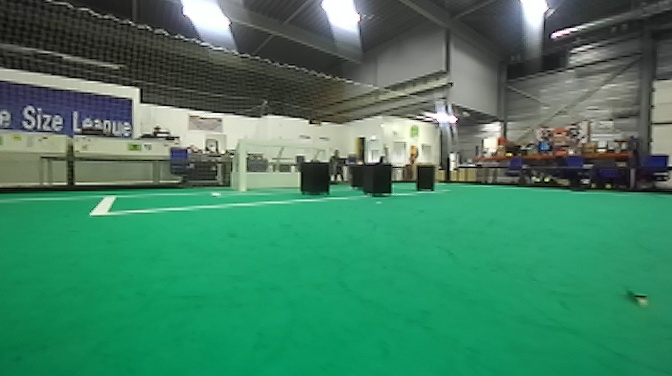goalpost: (239, 135, 246, 195), (318, 144, 327, 158)
